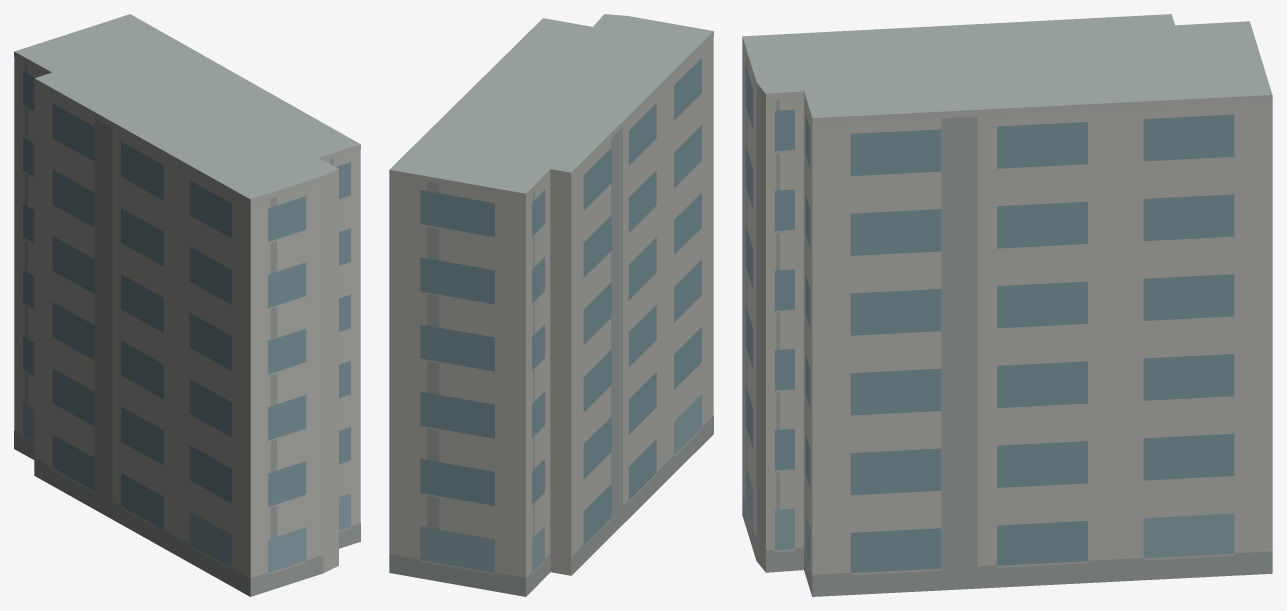
The model's file is survey-upis-32744700.glb.
3 renders of one model, left to right at view 1: azimuth 30°, elevation 25°; view 2: azimuth 150°, elevation 25°; view 3: azimuth 270°, elevation 25°, orthographic. The views are drawn at different scales.
Visible parts, largest first — view 1: survey-upis-32744700.tmp; view 2: survey-upis-32744700.tmp; view 3: survey-upis-32744700.tmp.
Part boxes in pixels (left/top/right/bottom): survey-upis-32744700.tmp: left=14, top=14, right=360, bottom=596; survey-upis-32744700.tmp: left=389, top=14, right=713, bottom=596; survey-upis-32744700.tmp: left=742, top=14, right=1272, bottom=596.
Size of the model in its own units: 8.22 by 17.6 by 17.67.
